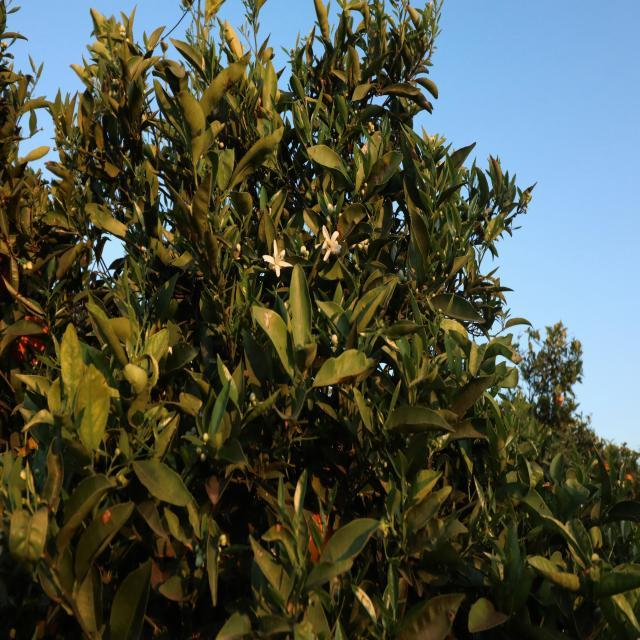Bunga: (264, 238, 292, 276), (320, 227, 342, 261)
Jeruk Sudah Matang: (17, 312, 48, 362), (302, 514, 328, 565)
